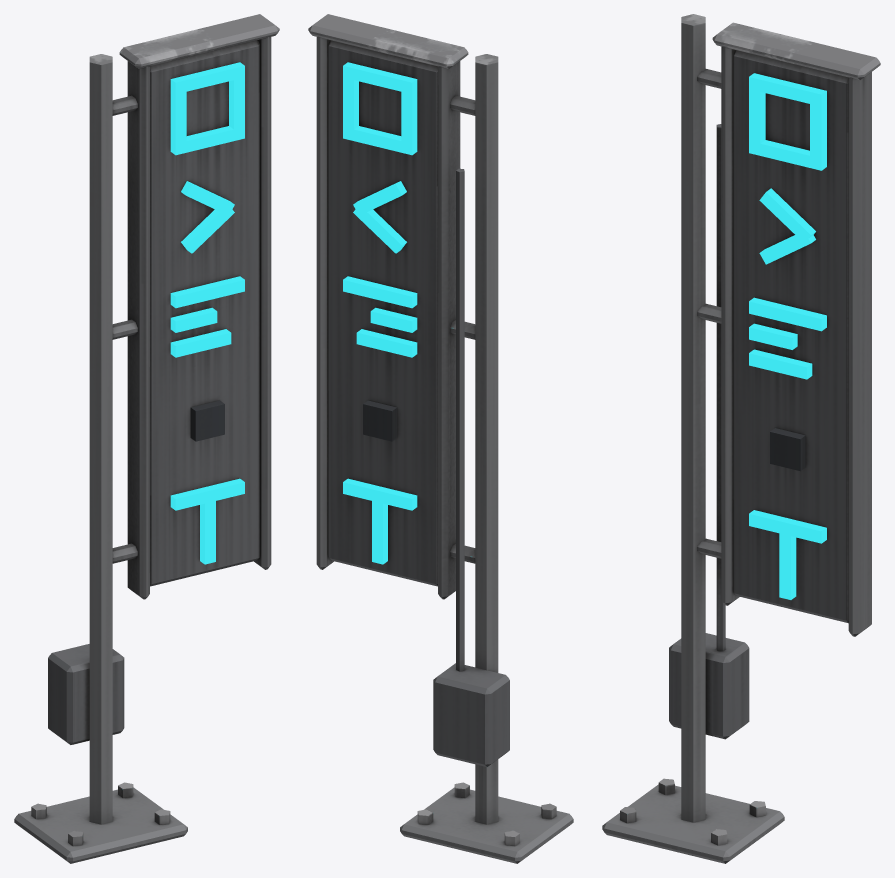
File: nodexeus-set-sign-a.glb
3 views of the same model, side by side, from view 1: azimuth 30°, elevation 25°; view 2: azimuth 150°, elevation 25°; view 3: azimuth 330°, elevation 25° (orthographic). The views are drawn at different scales.
Visible parts, largest first — view 1: set-sign-a; view 2: set-sign-a; view 3: set-sign-a.
Boxes of the visible parts, x1,y1,x2,y2 form: set-sign-a: (14, 14, 279, 863); set-sign-a: (308, 14, 573, 863); set-sign-a: (602, 14, 880, 863).
Bounding box in the file's own units: 0.8 × 2.55 × 0.34.
Materials: 1 (1 with a texture image).
